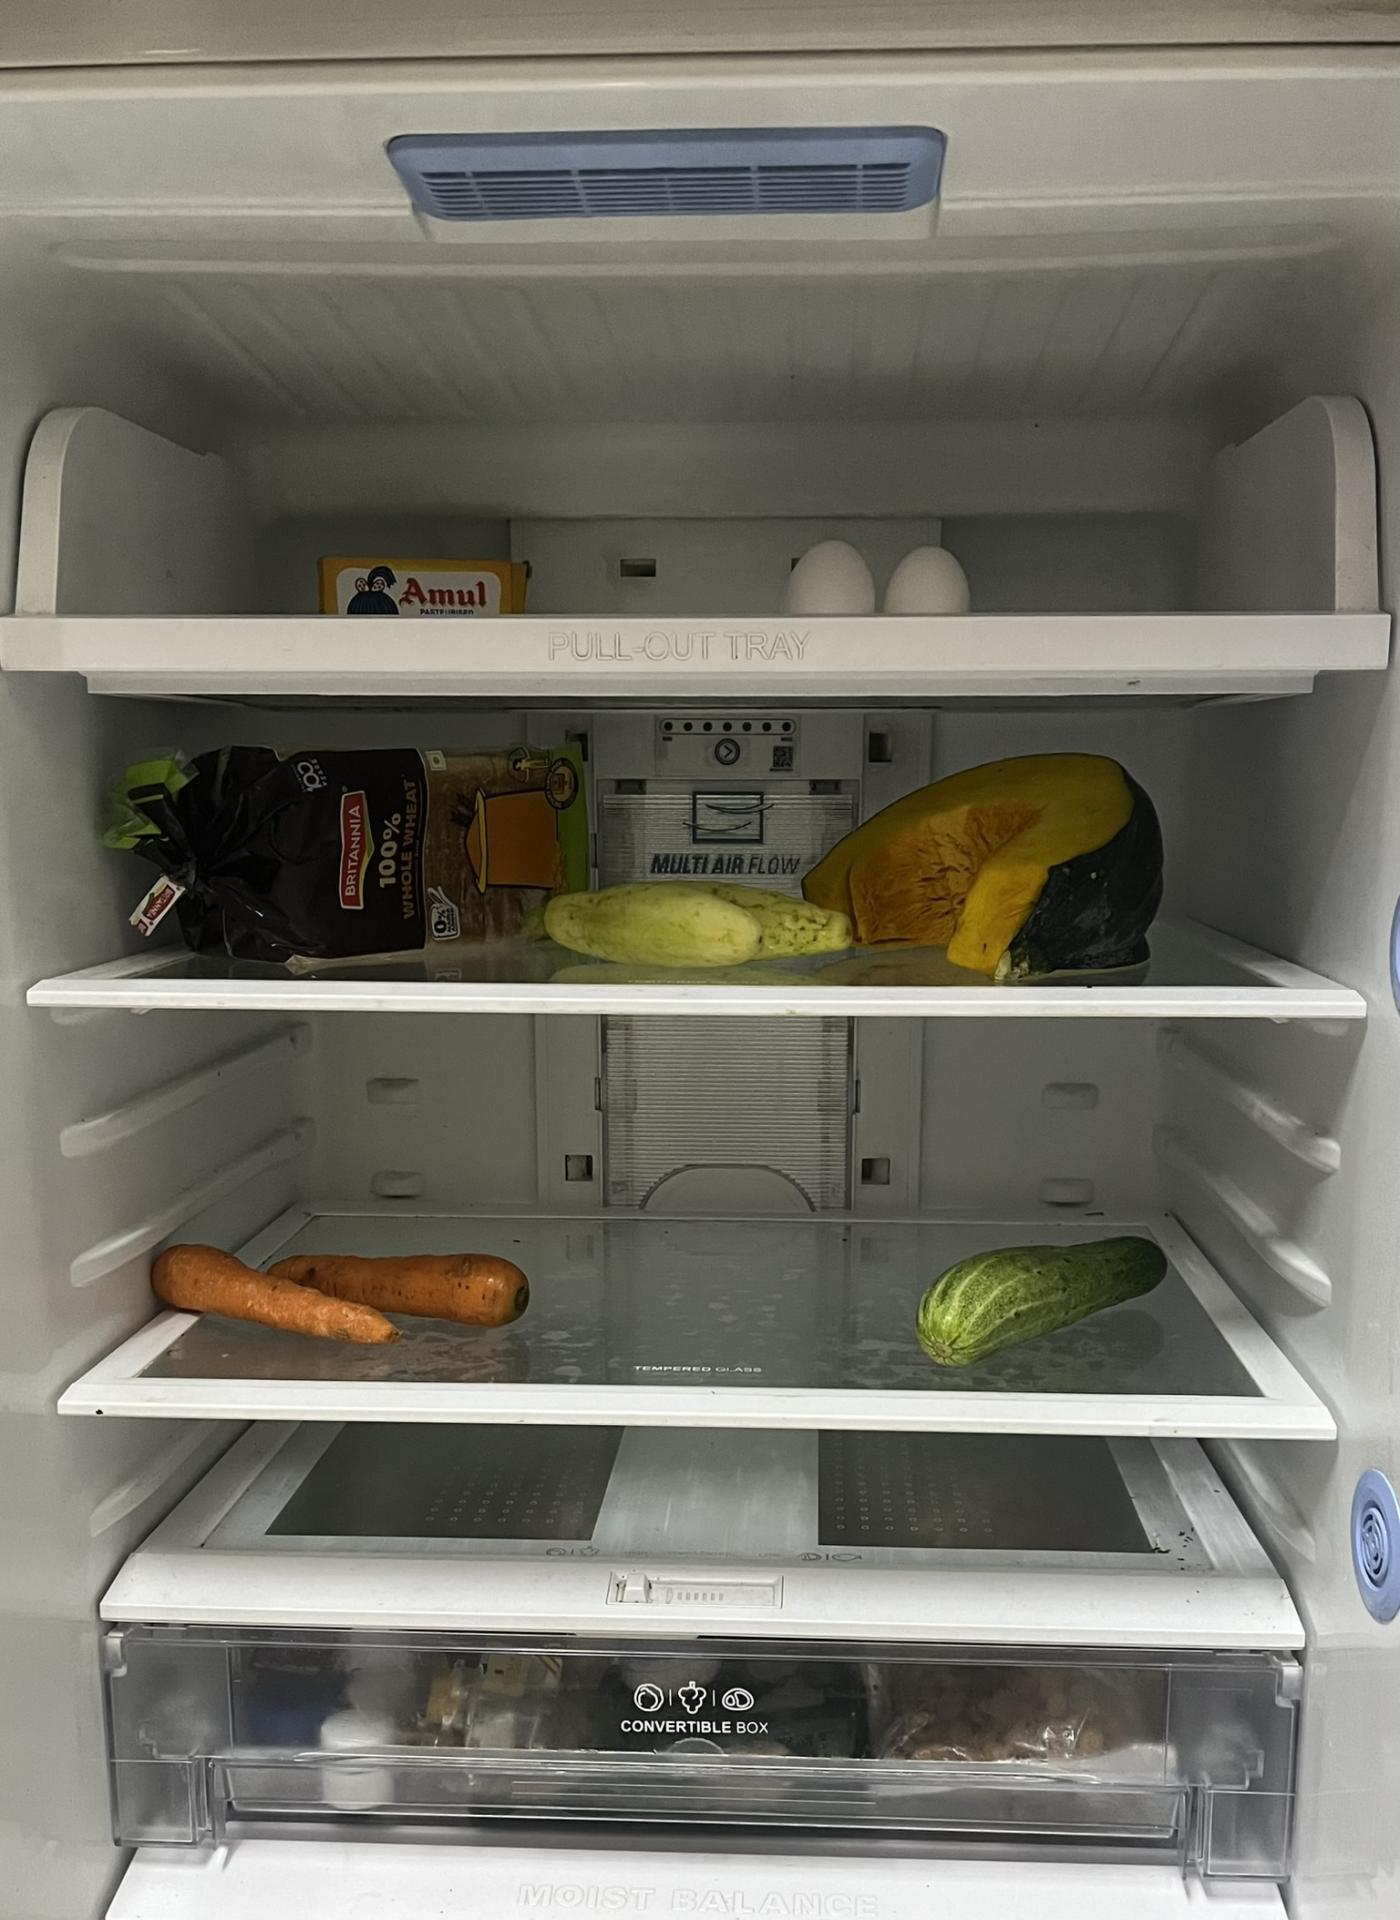bread: (125, 745, 593, 960)
butter: (318, 550, 532, 619)
carrots: (139, 1242, 541, 1345)
cucumber: (911, 1231, 1167, 1368), (547, 875, 854, 957)
egg: (783, 531, 980, 616)
pumpkin: (790, 750, 1167, 969)
